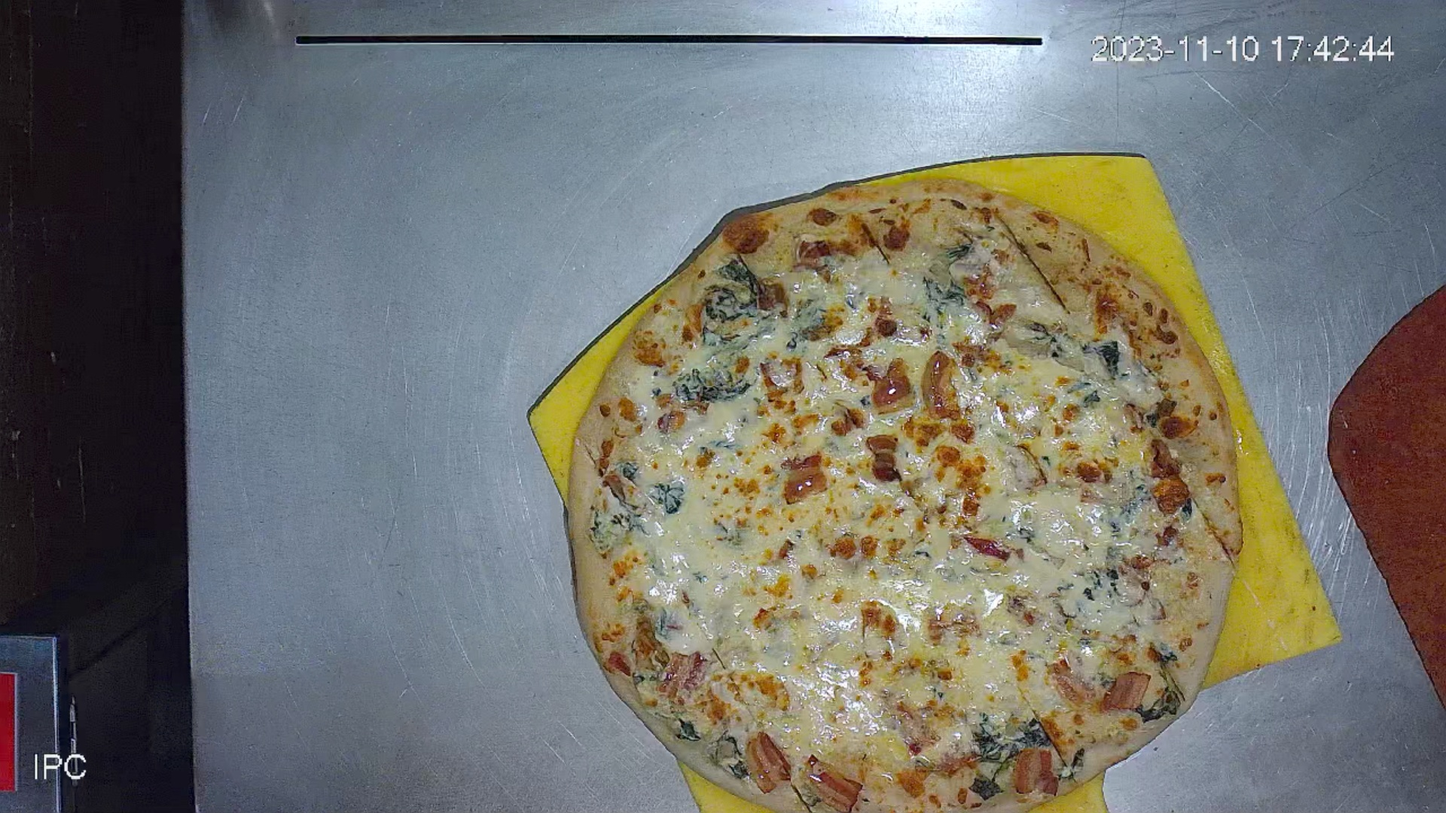pepporoni: (568, 178, 1244, 813)
